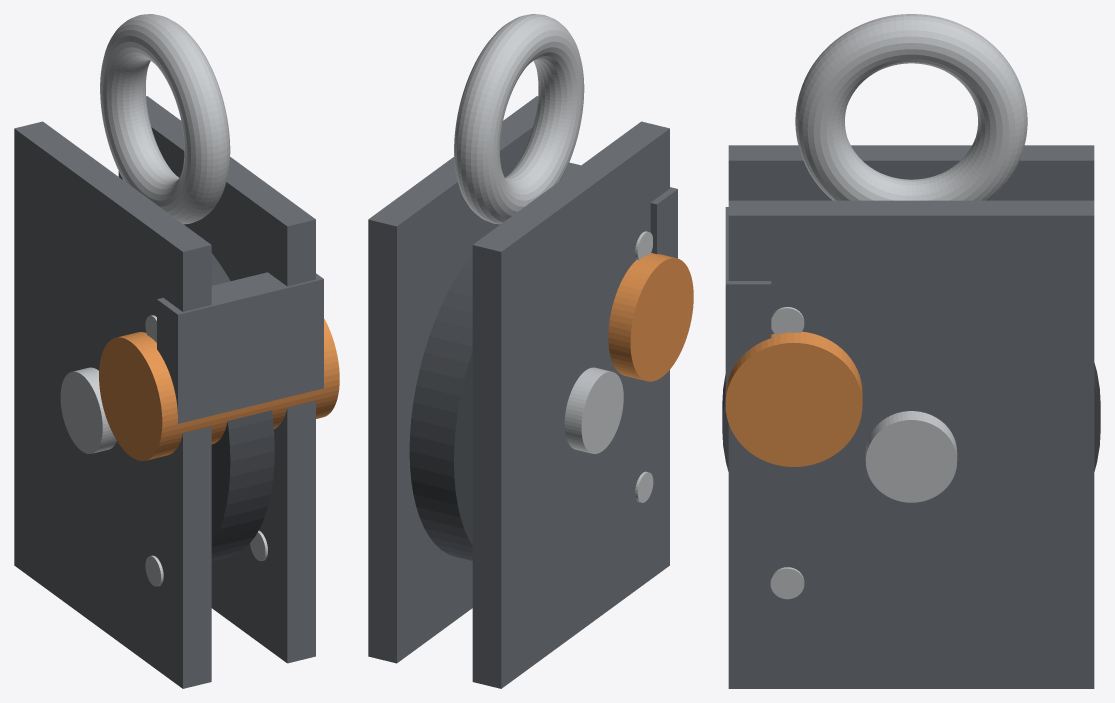
The model's file is progress_capture_pulley.glb.
The picture shows the model from 3 angles, left to right: view 1: azimuth 30°, elevation 25°; view 2: azimuth 150°, elevation 25°; view 3: azimuth 270°, elevation 25°; orthographic projection. The views are drawn at different scales.
Parts seen in each view (by area): view 1: part_2, part_3, part_11, part_5, part_10, part_0, part_4; view 2: part_2, part_3, part_5, part_0, part_10, part_4, part_11; view 3: part_3, part_5, part_10, part_2, part_4, part_11, part_0, part_8, part_9.
Part boxes in pixels (x1=…): part_2: x1=14, y1=121, x2=211, y2=688; part_3: x1=118, y1=96, x2=315, y2=663; part_11: x1=157, y1=272, x2=323, y2=423; part_5: x1=100, y1=14, x2=230, y2=224; part_10: x1=99, y1=318, x2=339, y2=460; part_0: x1=211, y1=253, x2=274, y2=560; part_4: x1=60, y1=367, x2=116, y2=453; part_2: x1=472, y1=121, x2=669, y2=688; part_3: x1=368, y1=96, x2=537, y2=663; part_5: x1=454, y1=14, x2=584, y2=224; part_0: x1=409, y1=253, x2=472, y2=560; part_10: x1=608, y1=253, x2=693, y2=381; part_4: x1=564, y1=367, x2=623, y2=453; part_11: x1=561, y1=162, x2=677, y2=258; part_3: x1=728, y1=200, x2=1094, y2=688; part_5: x1=795, y1=14, x2=1027, y2=200; part_10: x1=725, y1=331, x2=862, y2=466; part_2: x1=728, y1=145, x2=1094, y2=200; part_4: x1=865, y1=411, x2=957, y2=502; part_11: x1=725, y1=207, x2=771, y2=390; part_0: x1=722, y1=363, x2=1100, y2=471; part_8: x1=770, y1=567, x2=804, y2=599; part_9: x1=771, y1=307, x2=804, y2=334.
Bounding box in the file's own units: 0.34 × 1.08 × 0.58.
